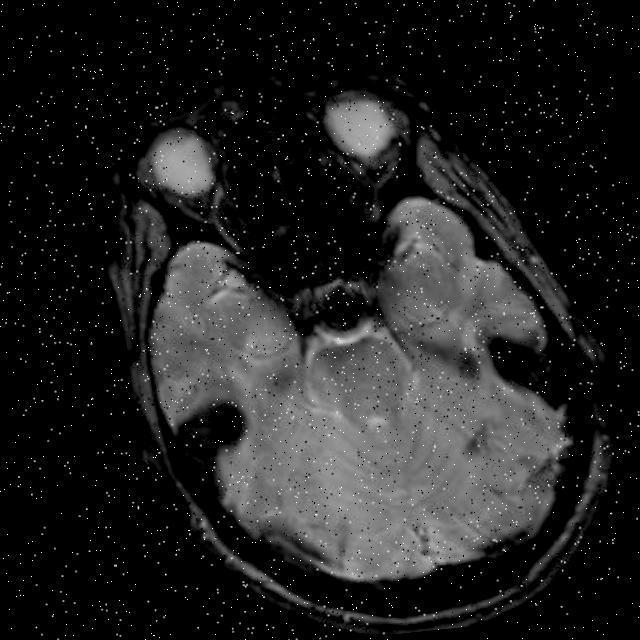EMCI: (160, 377, 283, 513), (464, 284, 581, 422), (400, 302, 470, 392)
